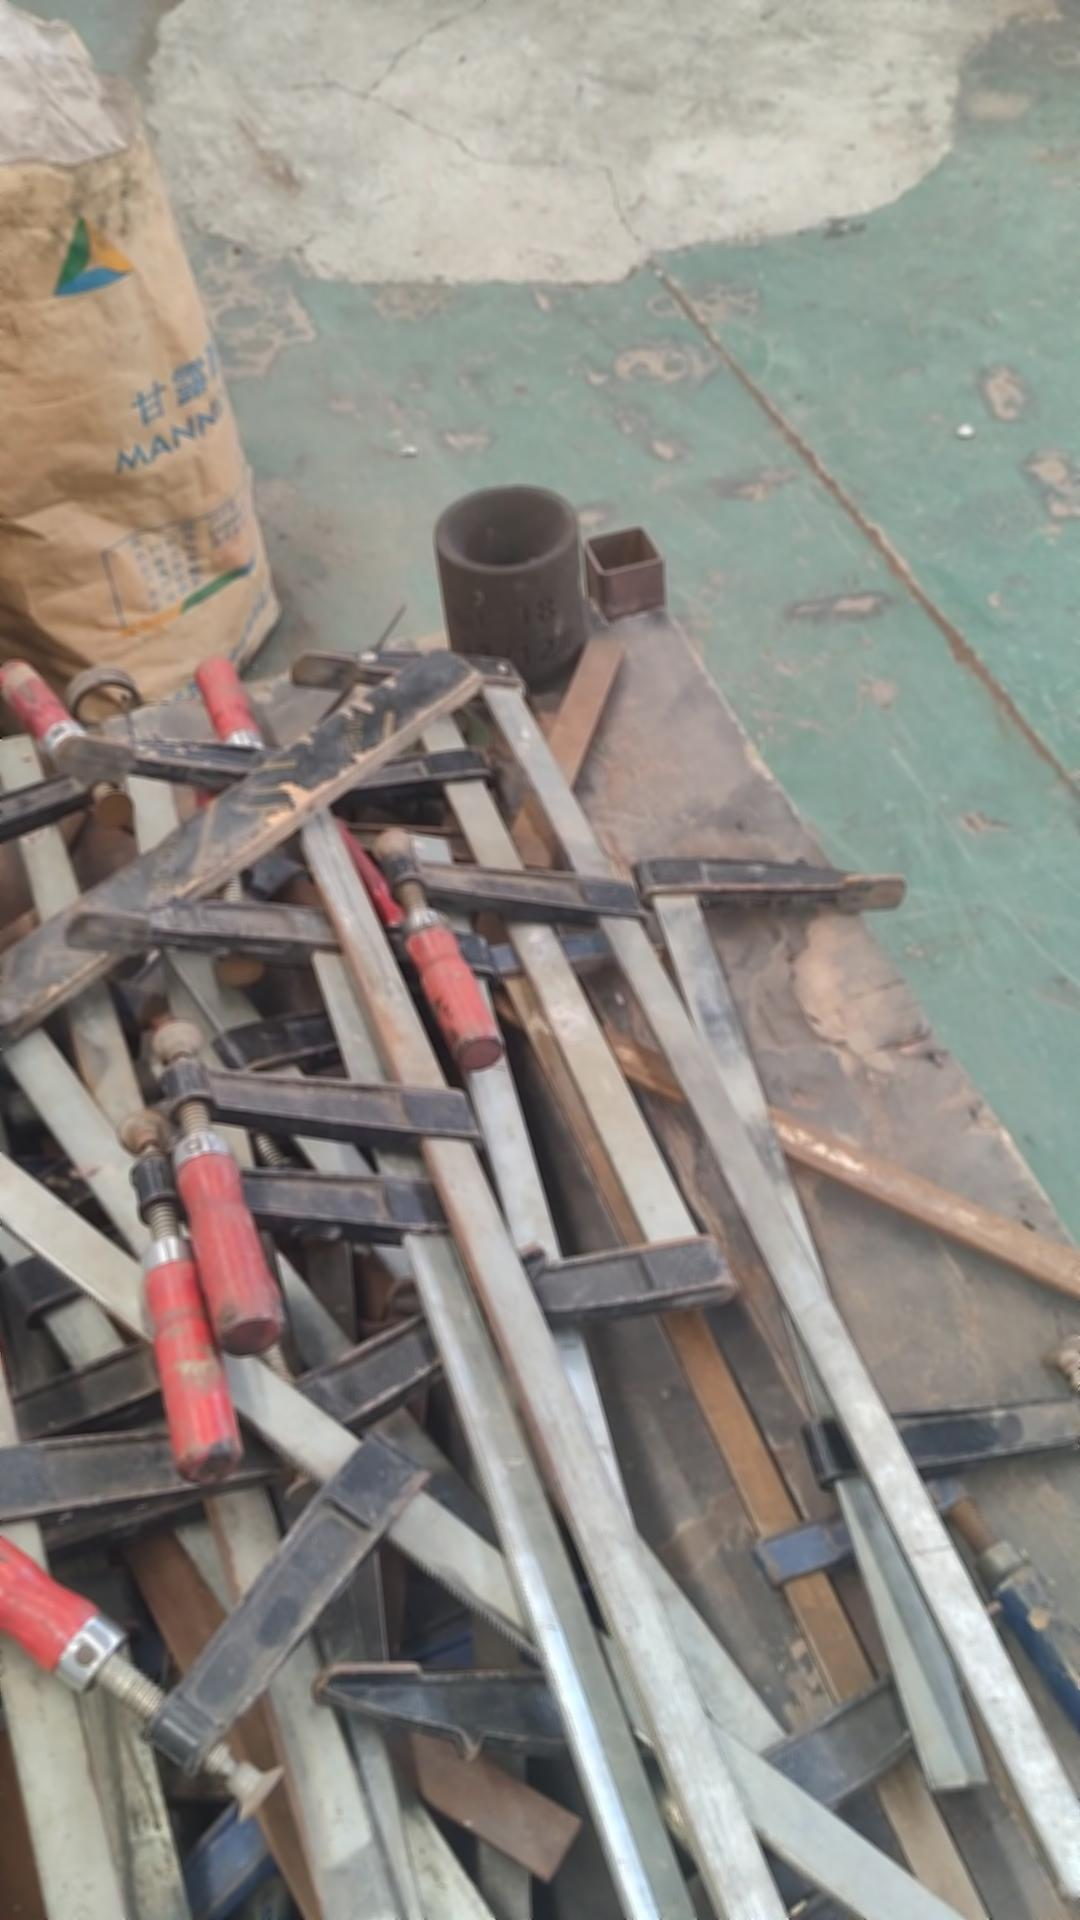pouring hole: (444, 489, 568, 567)
